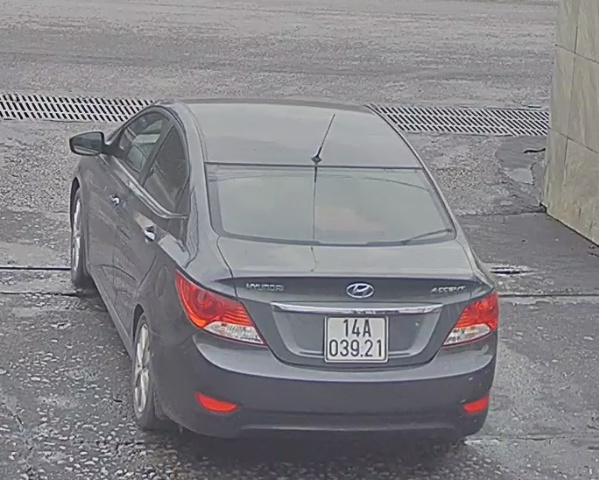vehicle plate: (319, 308, 397, 367)
